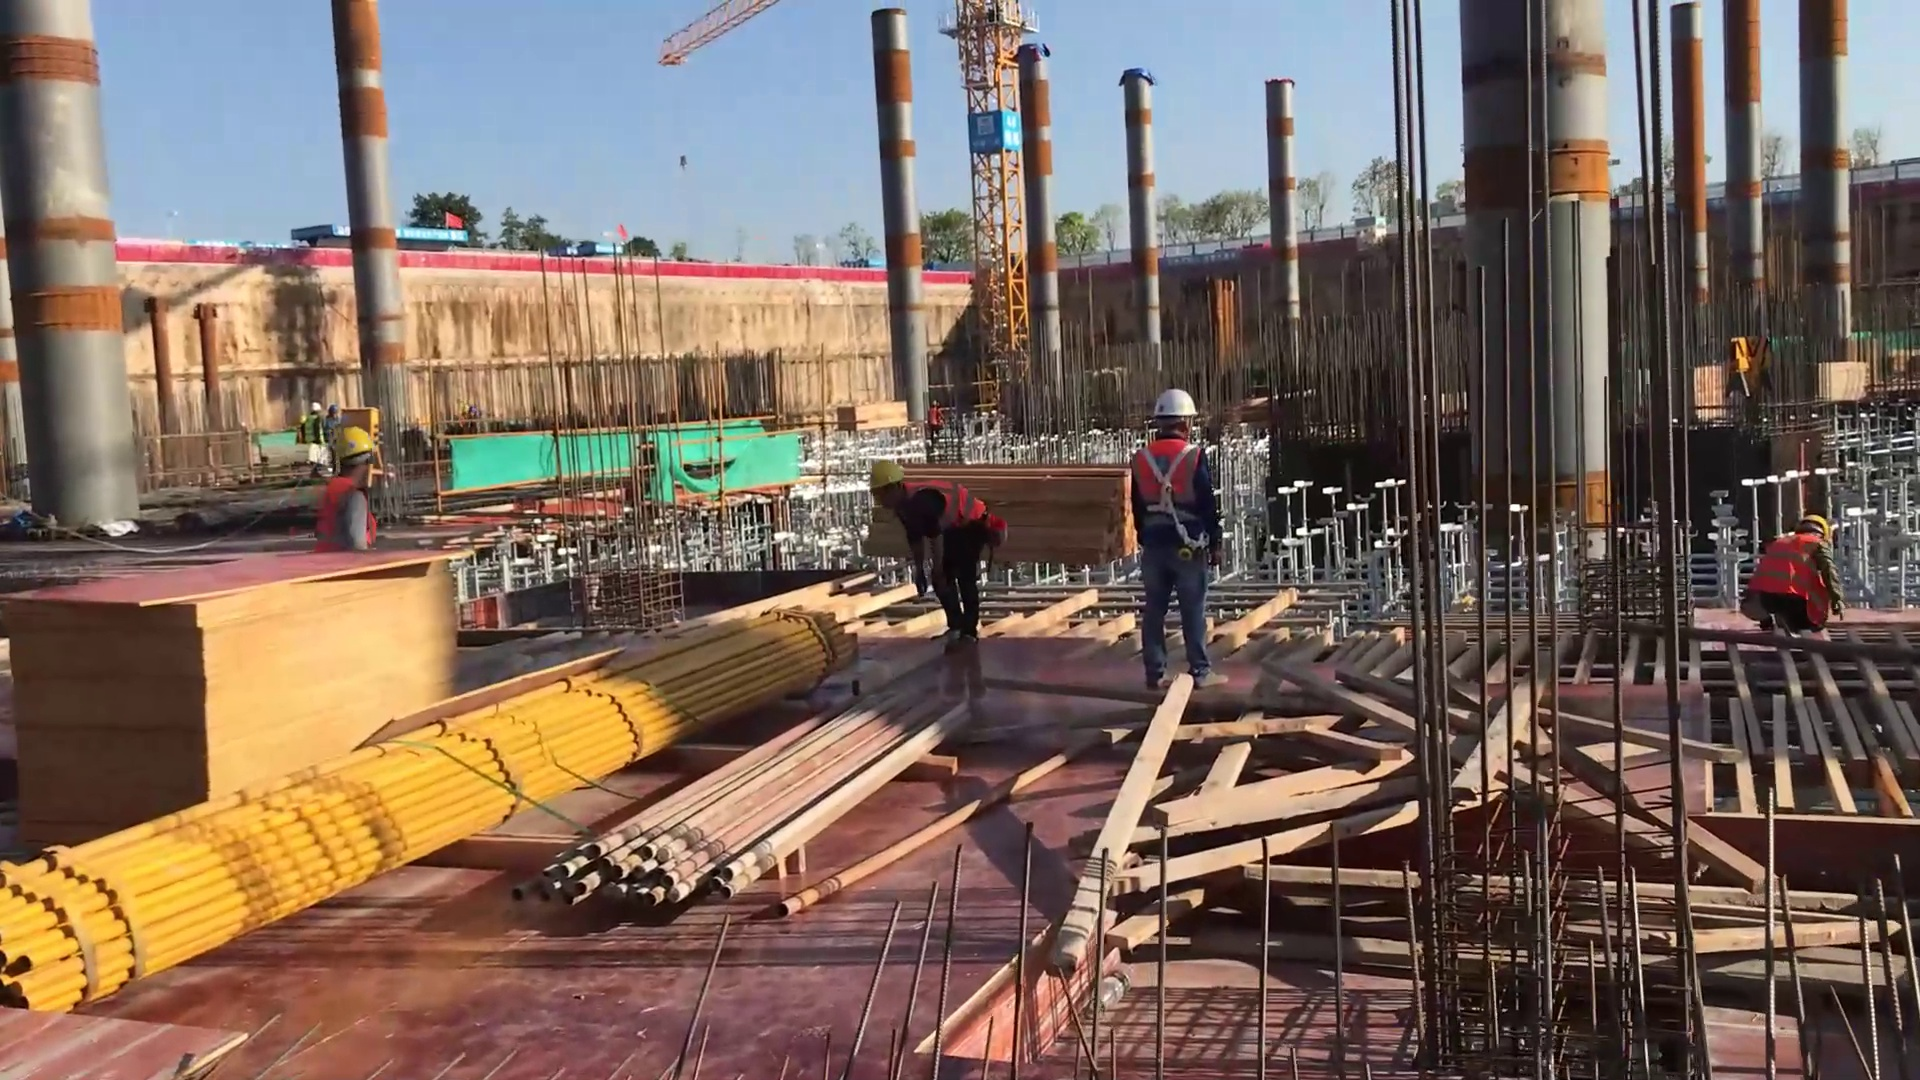board: (1, 526, 469, 857)
ebox: (337, 404, 387, 438)
helmet: (1143, 380, 1204, 430), (332, 425, 379, 468), (868, 452, 910, 498), (1792, 511, 1835, 548)
person: (1113, 377, 1240, 704), (860, 448, 1017, 658), (1735, 505, 1850, 644), (301, 420, 392, 563)
vest: (1129, 436, 1211, 554), (1744, 530, 1833, 630), (908, 480, 1011, 555), (311, 470, 379, 556)
wood: (948, 436, 1131, 586)
